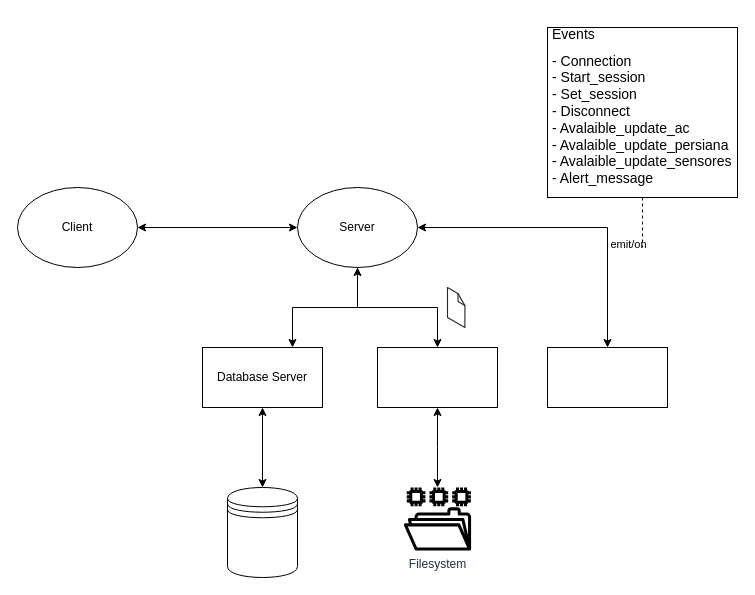
This 755x595 diagram has some shape labels left out. Here are the shapes that lost their labels. From the top down, the box of each, then its label:
(376, 346, 498, 408): HTTP Server
(546, 346, 668, 408): Socket Server
(226, 486, 298, 578): MongoDB
